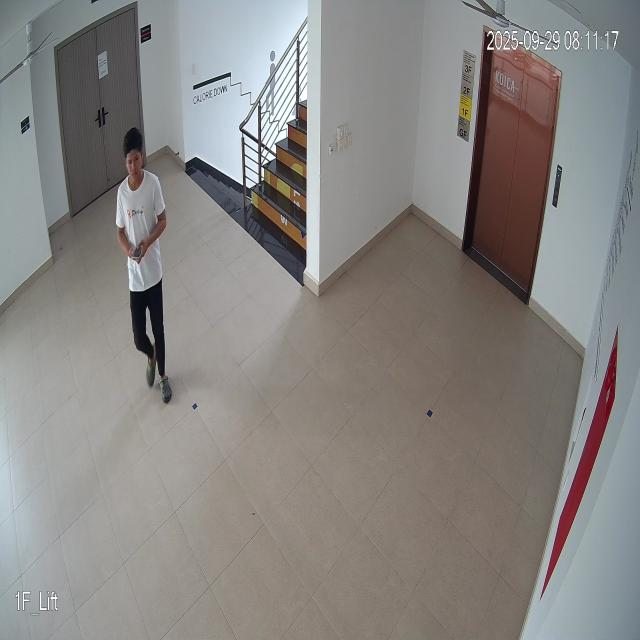face: (121, 130, 147, 186)
